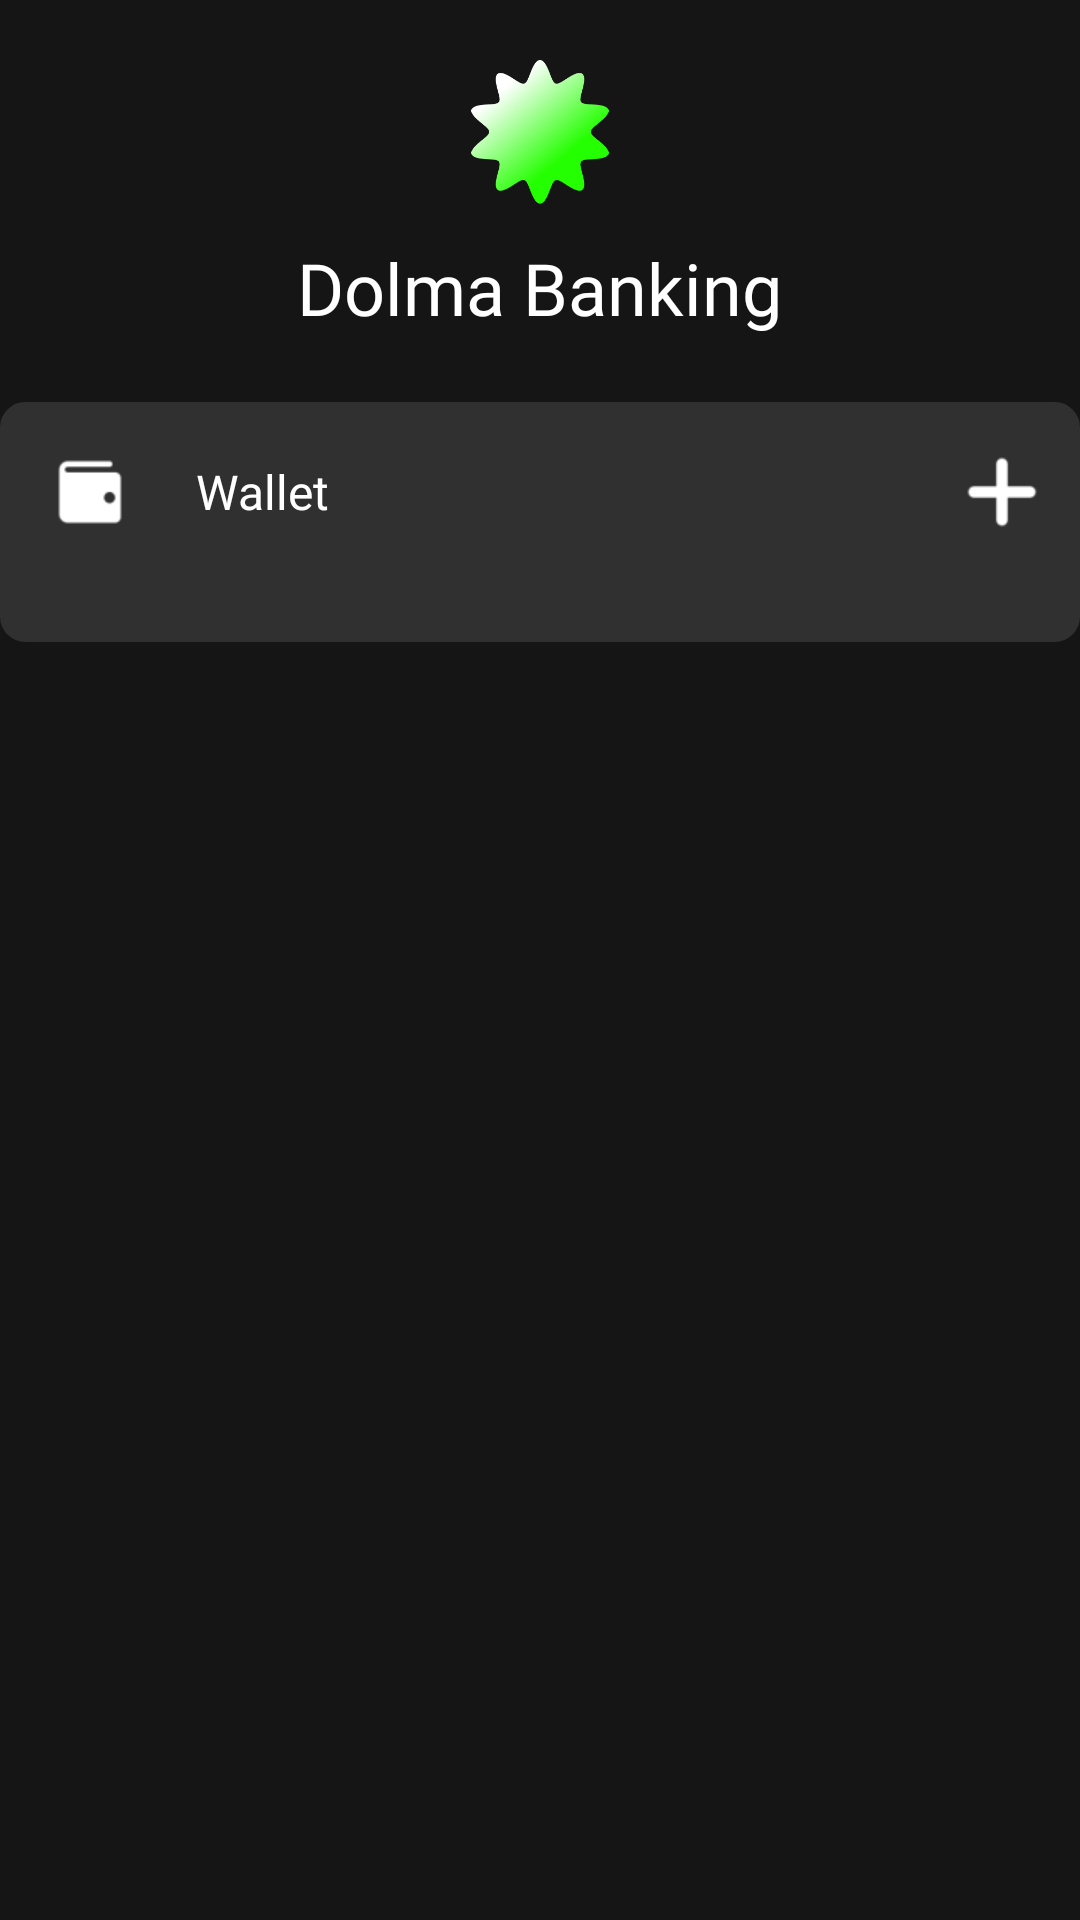

Icons on this 1080×1920 Android screen, each with its box as Rect(x1, y1, x2, y2):
plus: Rect(967, 457, 1037, 527)
